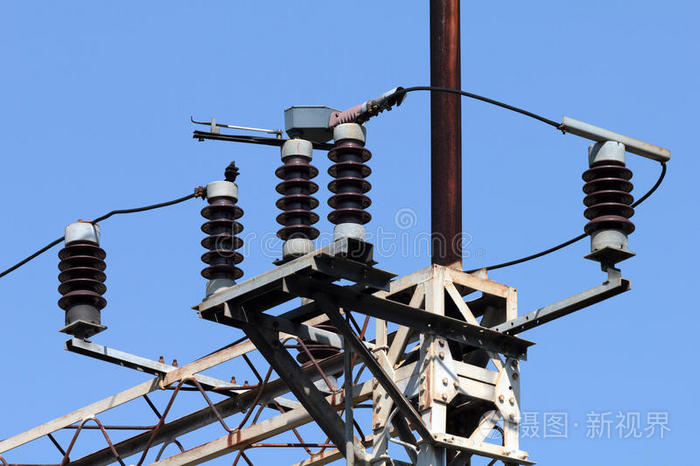insulator: (580, 164, 642, 234), (201, 201, 247, 287), (326, 143, 374, 224), (54, 244, 108, 314), (276, 160, 319, 240)
